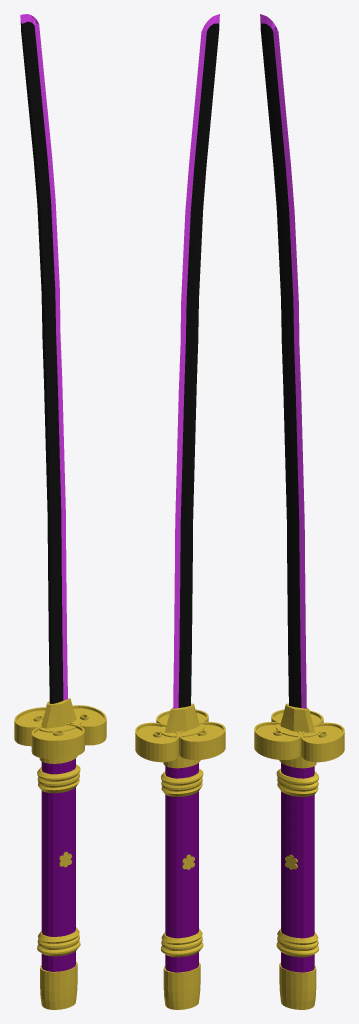
Rendered from katana.glb.
The picture shows the model from 3 angles, left to right: view 1: azimuth 30°, elevation 25°; view 2: azimuth 210°, elevation 25°; view 3: azimuth 330°, elevation 25°; orthographic projection.
Visible parts, largest first — view 1: Katana_0.004_29; view 2: Katana_0.004_29; view 3: Katana_0.004_29.
Boxes of the visible parts, box(x1,y1,x2,y2) form: Katana_0.004_29: box(14, 14, 106, 1009); Katana_0.004_29: box(135, 14, 225, 1009); Katana_0.004_29: box(254, 14, 344, 1009).
Size of the model in its own units: 0.2189 by 2.56 by 0.19.
Materials: 1 (1 with a texture image).
